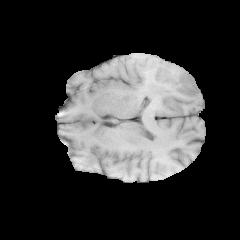glioma: (137, 60, 198, 110)
